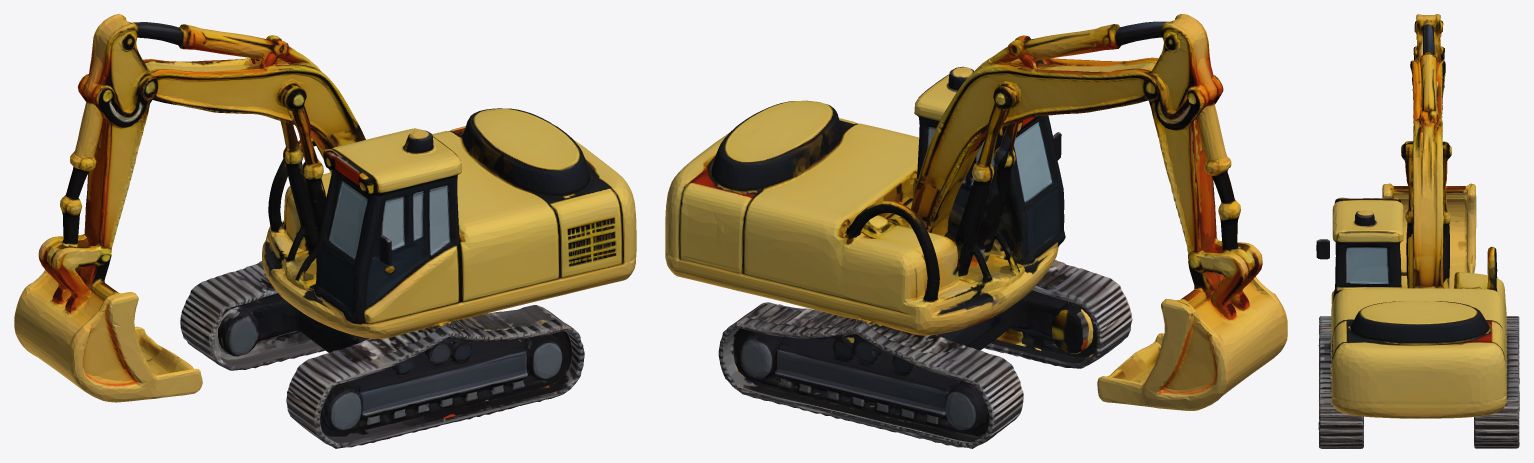
3 renders of one model, left to right at view 1: azimuth 30°, elevation 25°; view 2: azimuth 150°, elevation 25°; view 3: azimuth 270°, elevation 25°, orthographic. The views are drawn at different scales.
Visible parts, largest first — view 1: zh_demo_003_c3_s2031136393.obj; view 2: zh_demo_003_c3_s2031136393.obj; view 3: zh_demo_003_c3_s2031136393.obj.
Boxes of the visible parts, x1=… form: zh_demo_003_c3_s2031136393.obj: x1=14, y1=14, x2=636, y2=448; zh_demo_003_c3_s2031136393.obj: x1=665, y1=14, x2=1287, y2=448; zh_demo_003_c3_s2031136393.obj: x1=1316, y1=14, x2=1519, y2=448.
Size of the model in its own units: 1.99 by 1.44 by 0.8744.
Materials: 1 (1 with a texture image).
